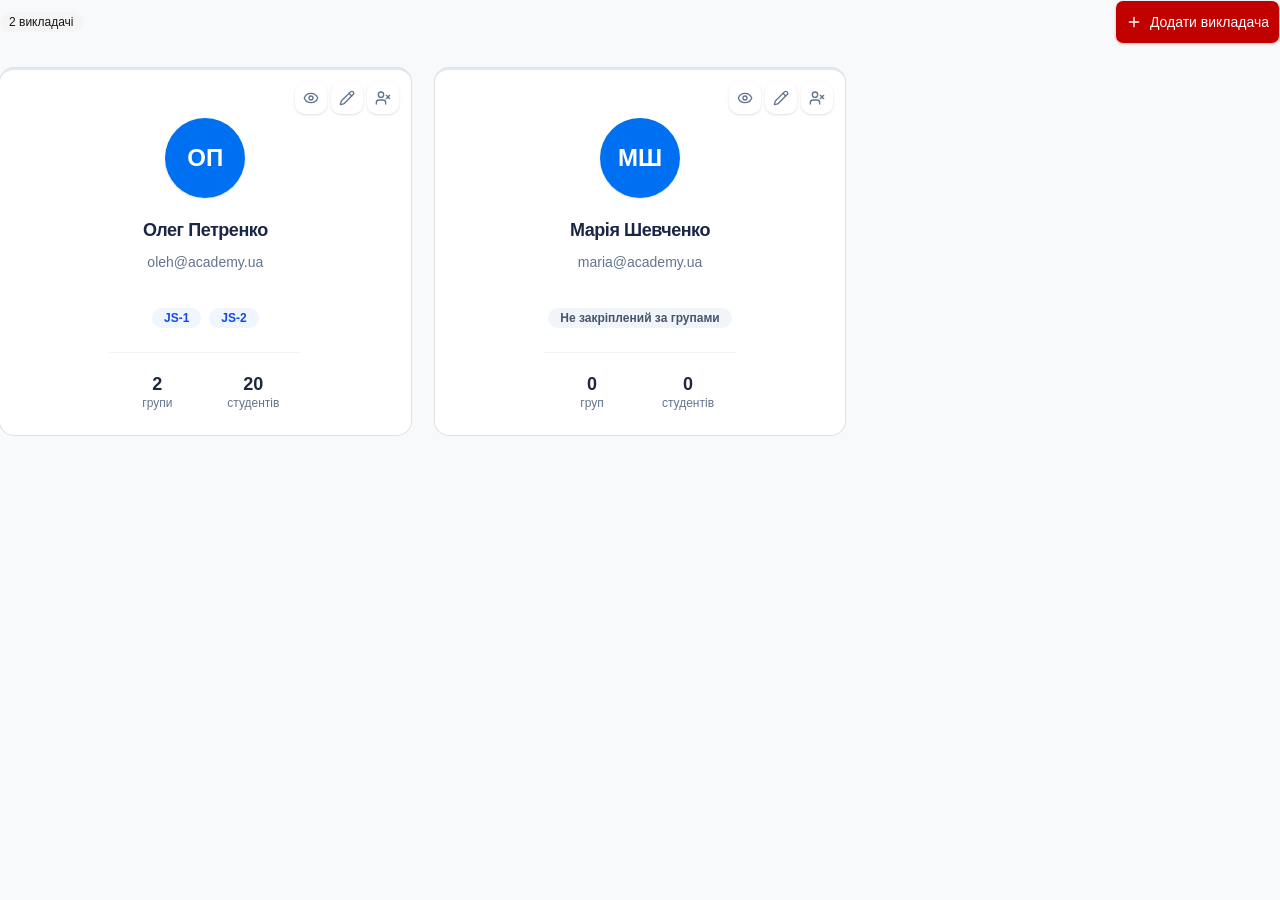
Test: TeachersPage — деактивація › після підтвердження деактивує викладача і прибирає картку
Expected: the text "Марія Шевченко" is shown, [570, 218, 710, 244]
Click the button named "Деактивувати: Марія Шевченко" at (817, 98), box [801, 82, 833, 114]
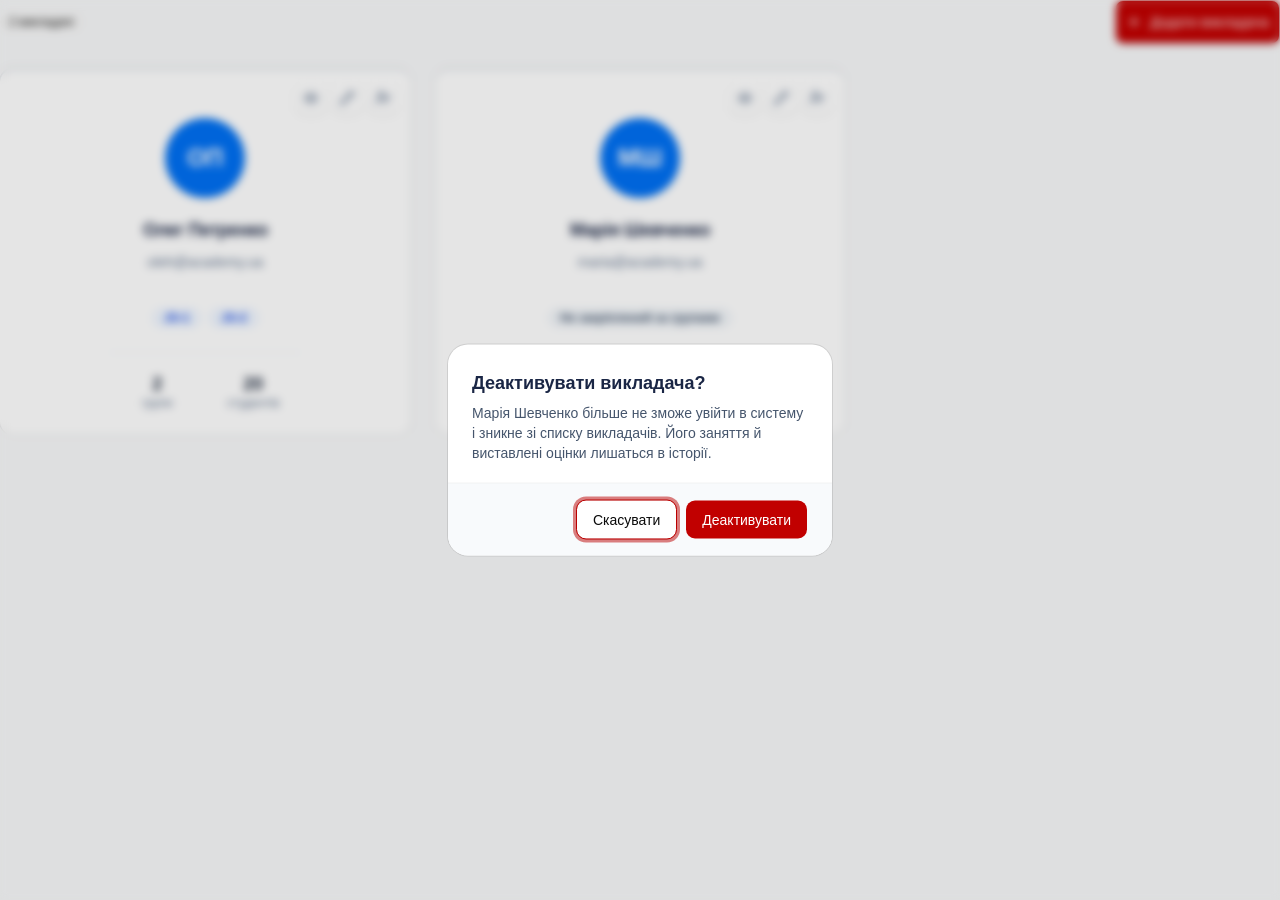
Click the button "Деактивувати" at (747, 520), box [685, 500, 808, 540]
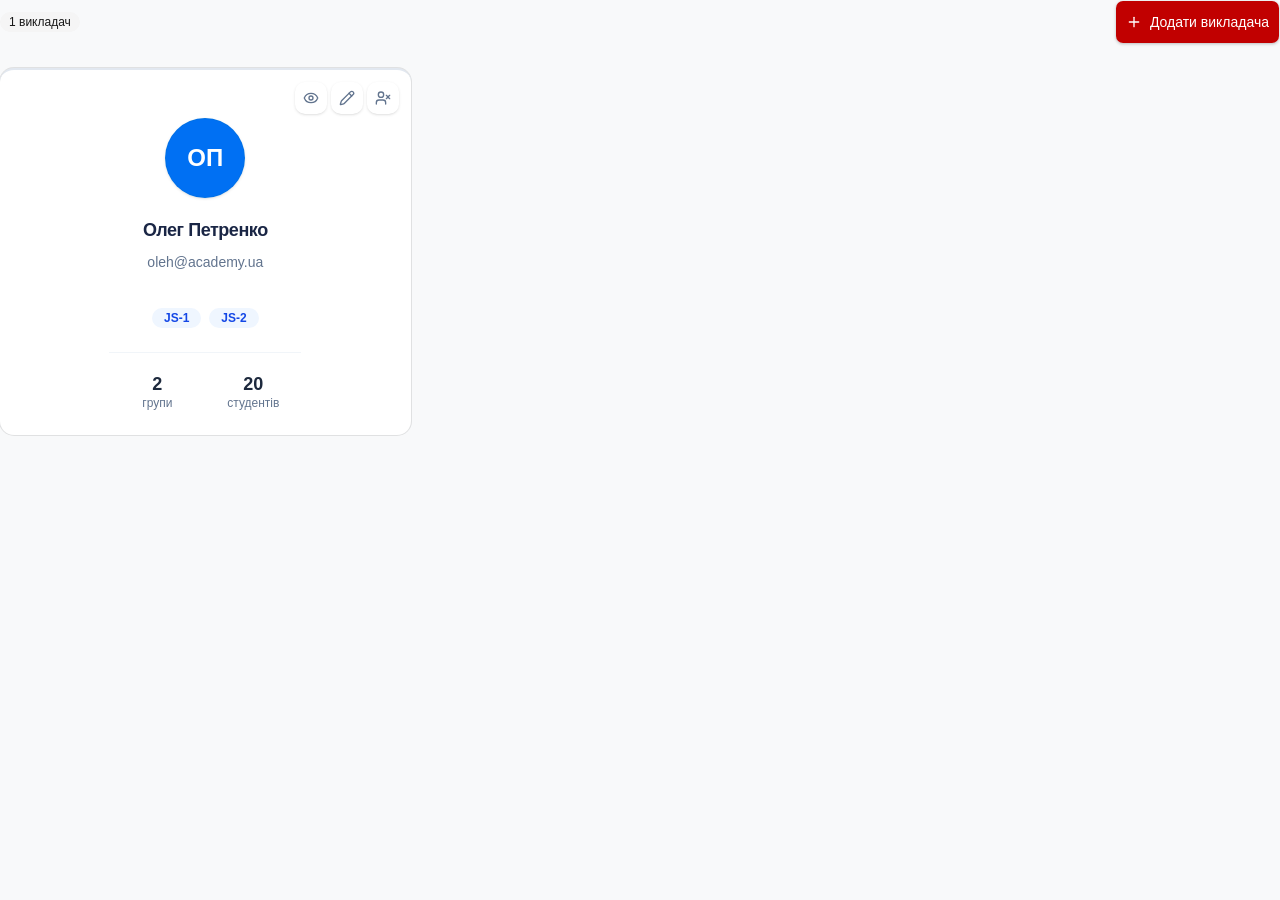
Expected: the text "Олег Петренко" is shown, [143, 218, 268, 244]
Expected: the text "Марія Шевченко" is gone
